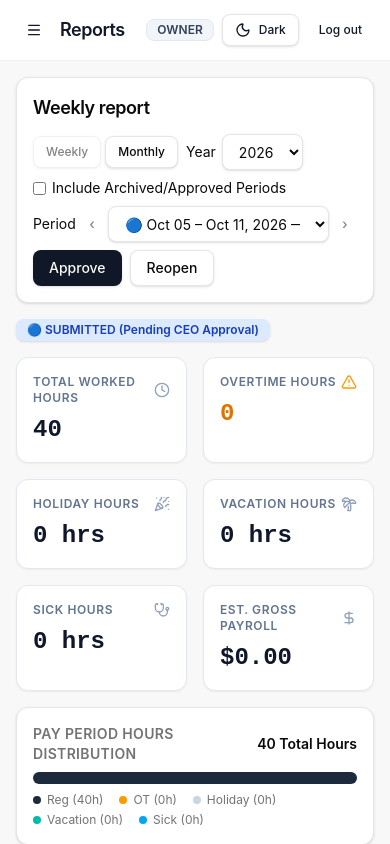
Test: App routing › mobile hamburger opens the drawer nav with sub-links
Click the button named "Open navigation". click: (34, 30)
box: x1=16 y1=12 x2=52 y2=48
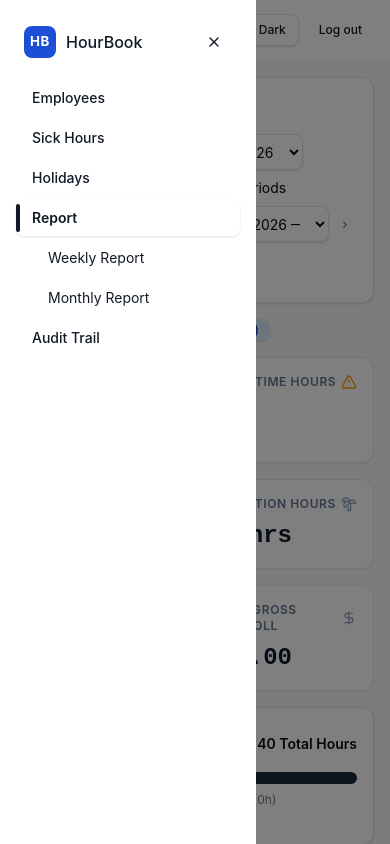
Now the link "Weekly Report" is shown, box x1=48 y1=249 x2=144 y2=266
Now the link "Monthly Report" is shown, box x1=48 y1=289 x2=150 y2=306
Click the button named "Close navigation". click: (214, 42)
box: x1=196 y1=24 x2=232 y2=60
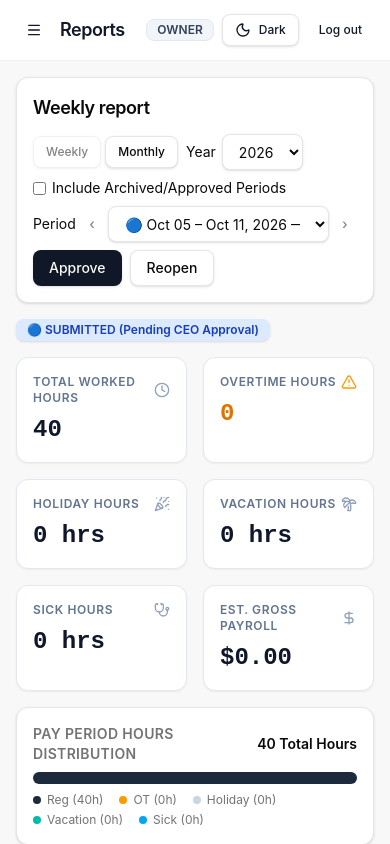
Now the navigation bar "Mobile" is gone
